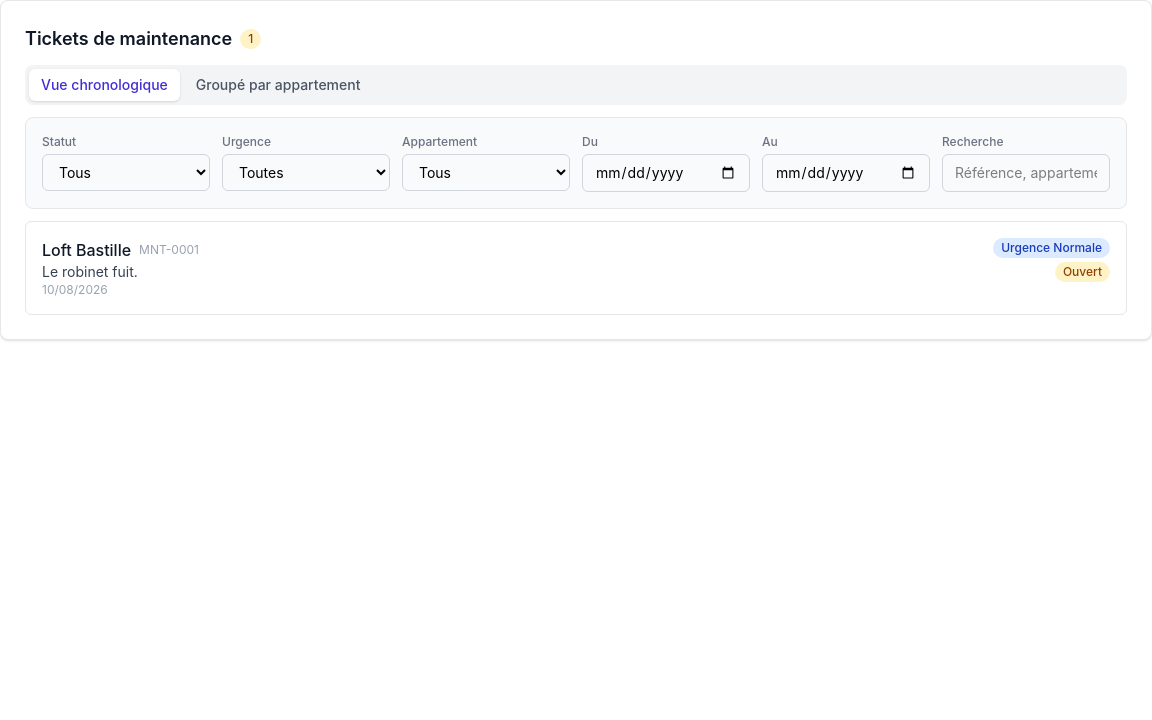
Test: TicketsMaintenanceSection › replie la carte par défaut et ne montre le contenu complet qu'après un clic
Check: the field labelled "agent de maintenance" is not shown
Click the text "Le robinet fuit." at (90, 272), box [42,263,138,280]
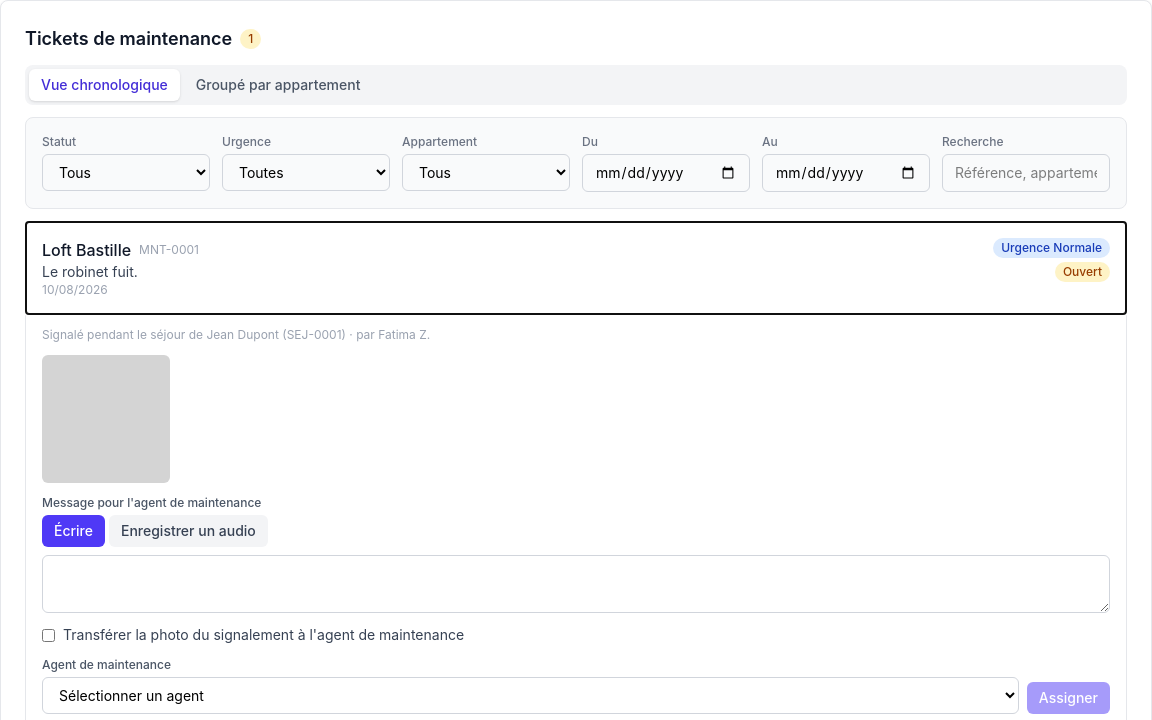
Check: the dropdown labelled "Agent de maintenance" is shown, box [42,677,1019,714]
Click the text "Le robinet fuit." at (90, 272), box [42,263,138,280]
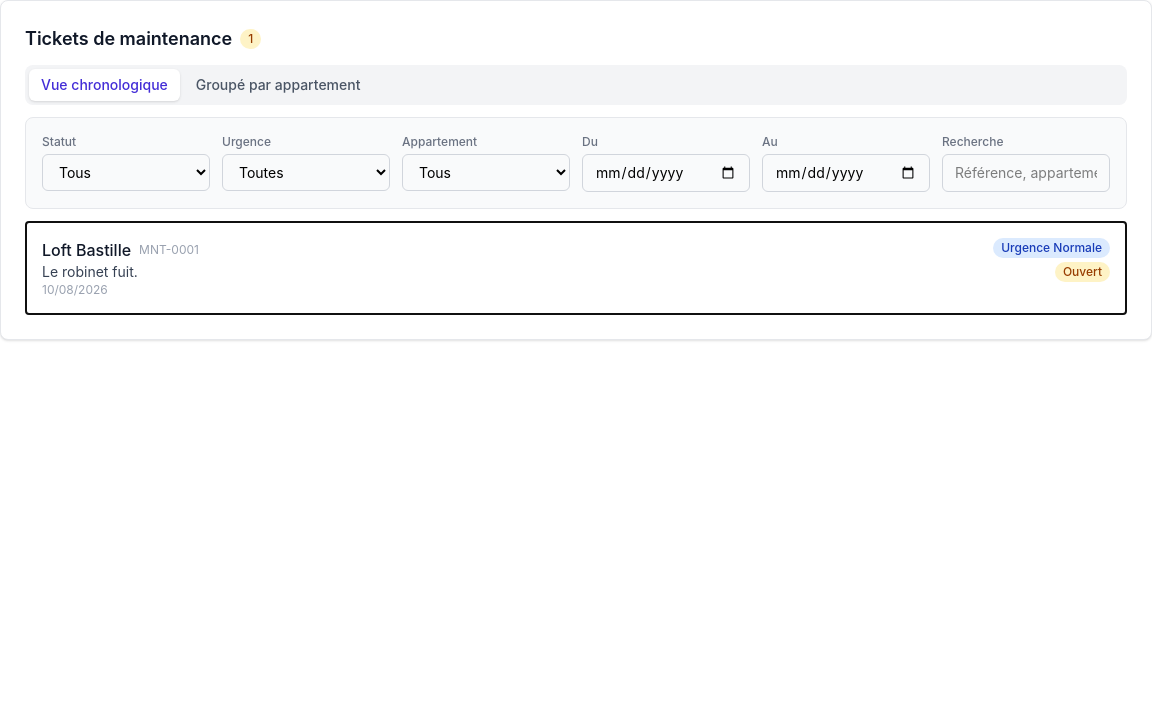
Check: the label labelled "Agent de maintenance" is gone
